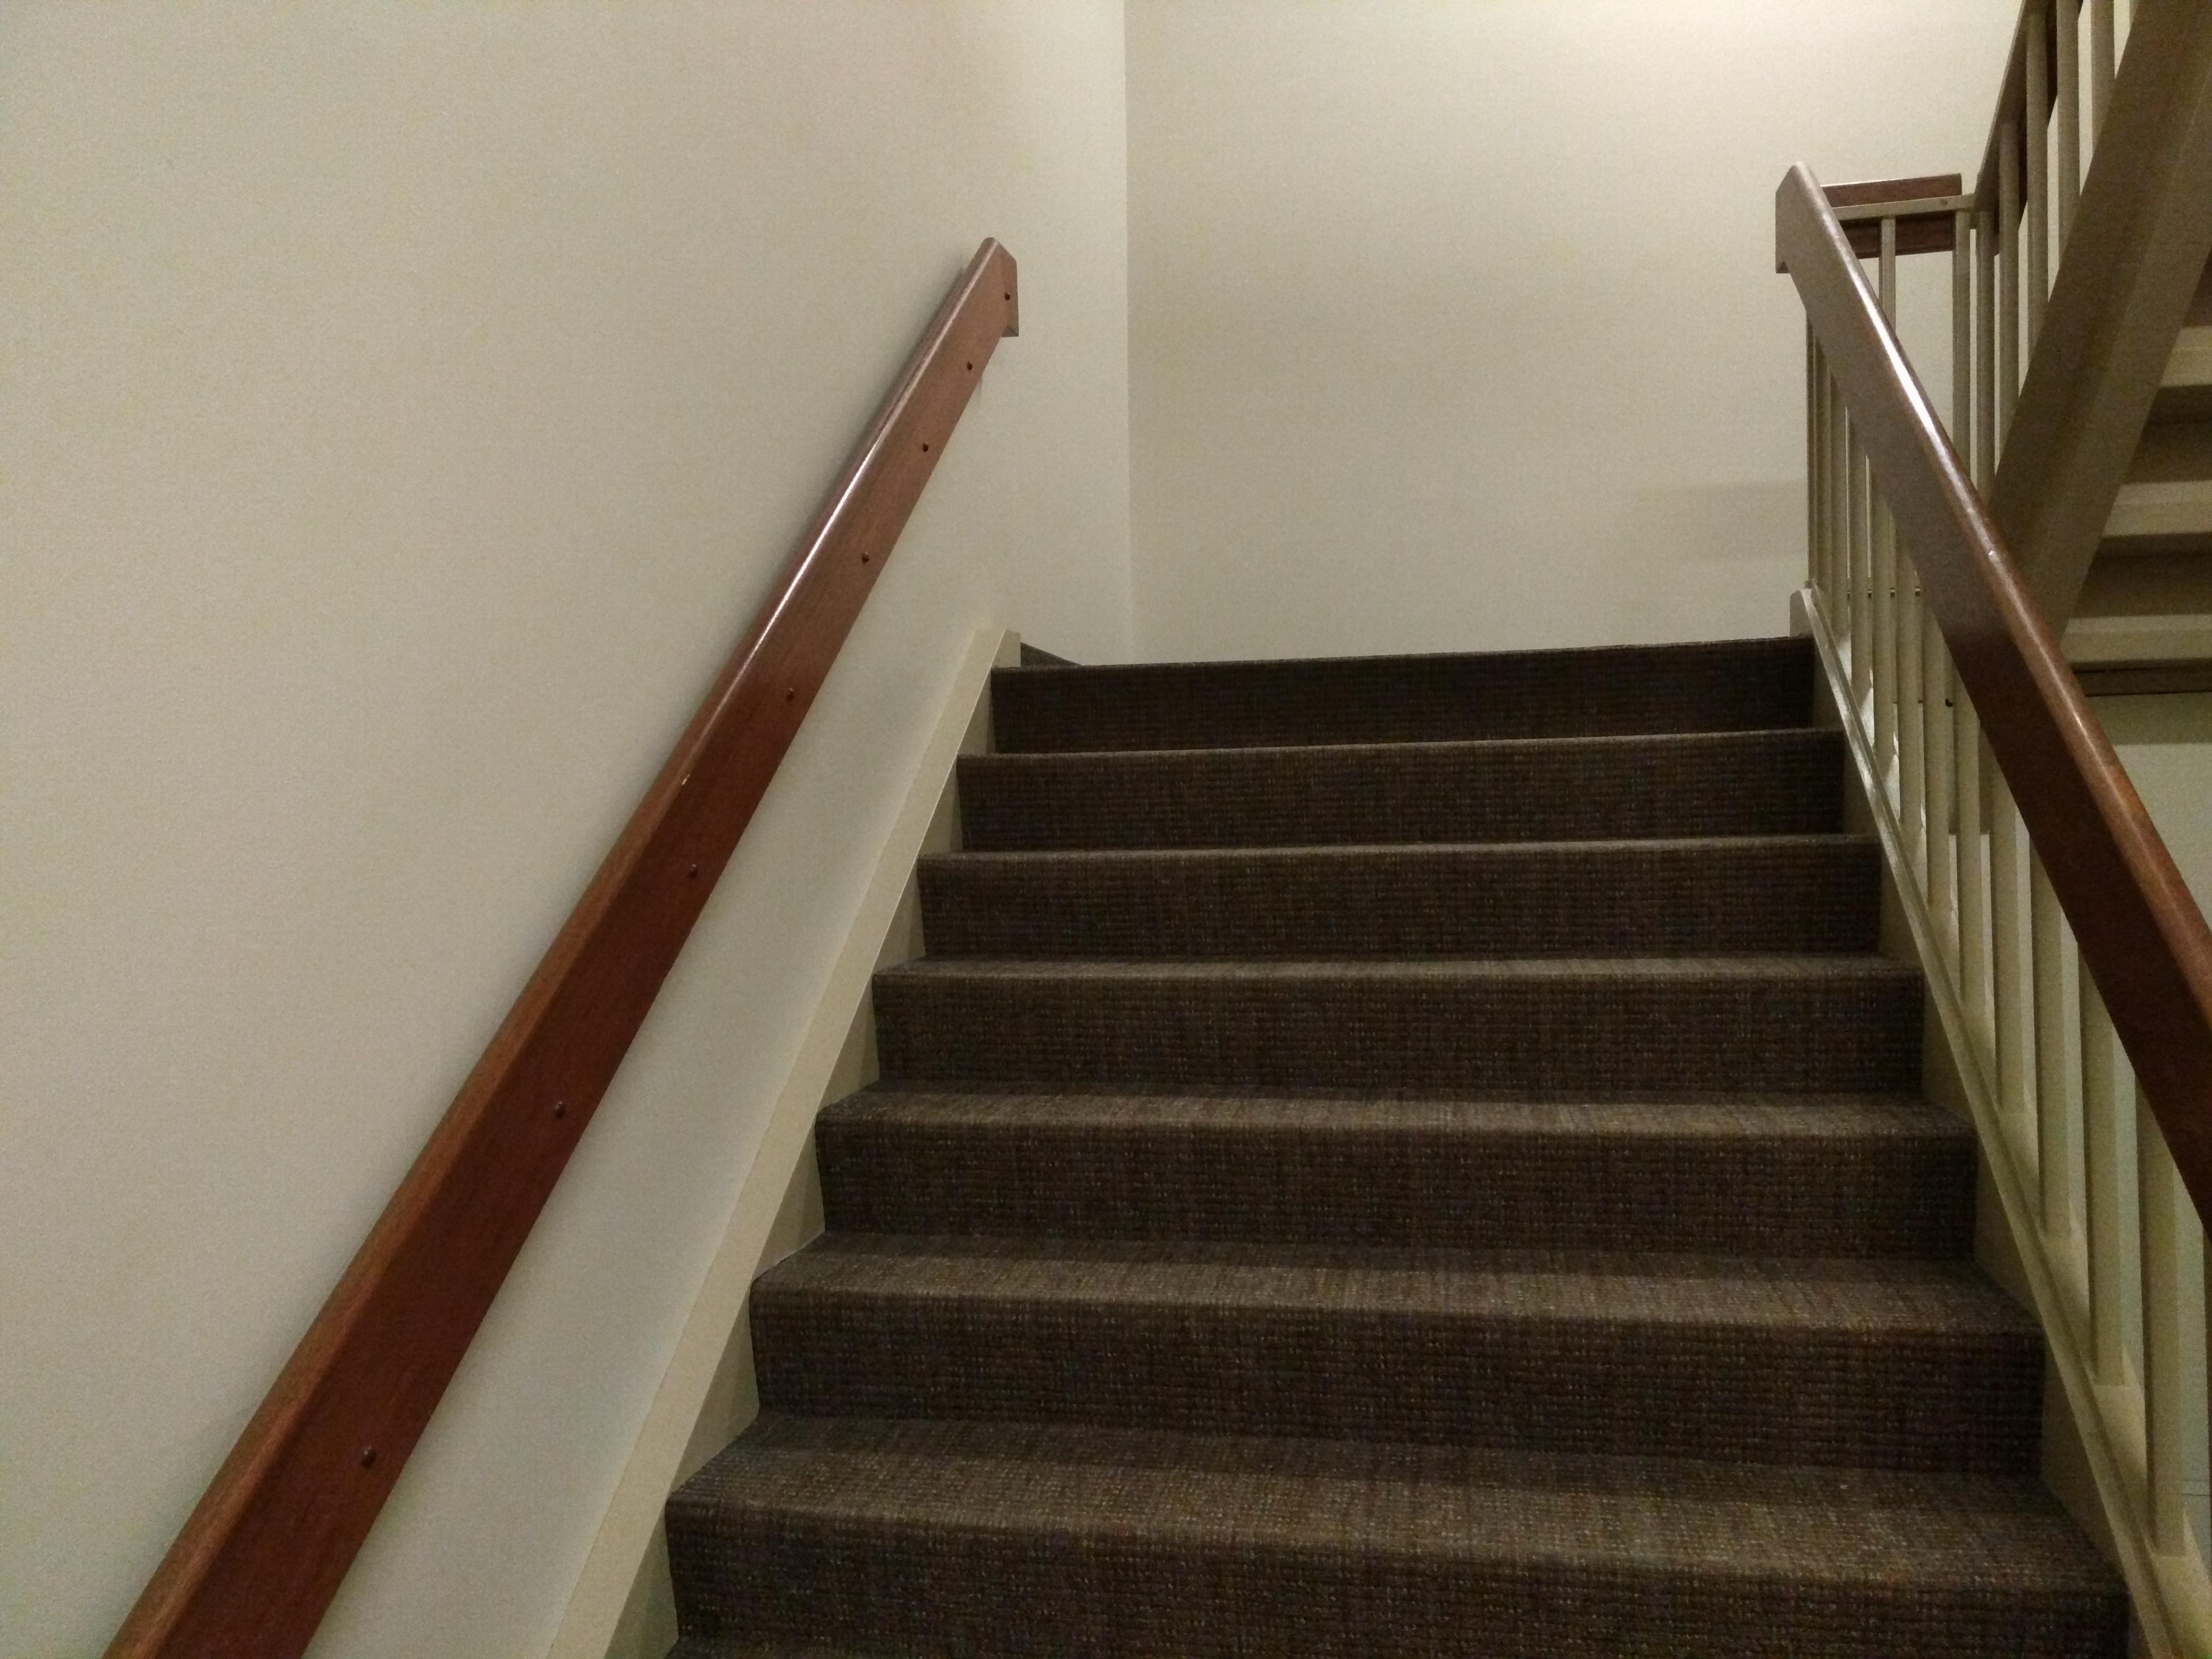stairs_up: (648, 626, 2146, 1614)
